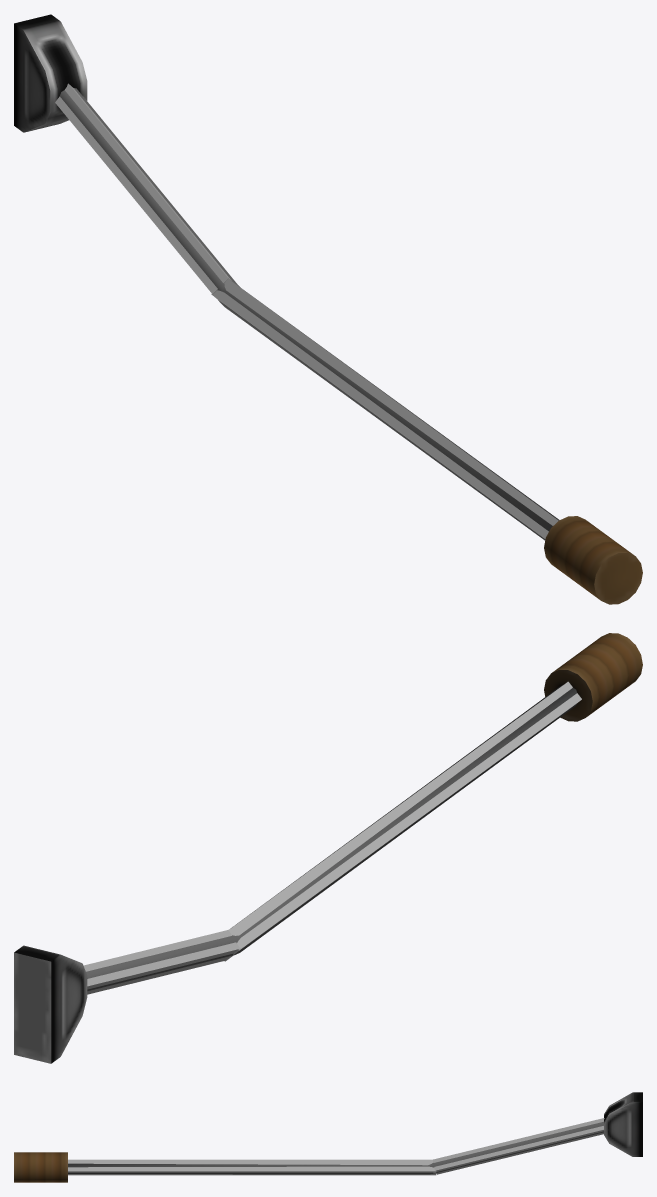
The model's file is Pioneer6_Boom_Magfbx.fbx.
The picture shows the model from 3 angles, top to bottom: view 1: azimuth 30°, elevation 25°; view 2: azimuth 150°, elevation 25°; view 3: azimuth 270°, elevation 25°; orthographic projection. The views are drawn at different scales.
Parts seen in each view (by area): view 1: pCylinder28, pCube1, pCylinder7, pCylinder14, pCylinder27; view 2: pCylinder28, pCube1, pCylinder7, pCylinder14, pCylinder27; view 3: pCylinder28, pCylinder7, pCylinder27, pCube1, pCylinder14.
Part boxes in pixels (bbox=[...]): pCylinder28: bbox=[211, 279, 558, 538]; pCube1: bbox=[14, 14, 87, 132]; pCylinder7: bbox=[60, 88, 559, 540]; pCylinder14: bbox=[544, 516, 642, 604]; pCylinder27: bbox=[55, 83, 236, 294]; pCylinder28: bbox=[224, 681, 581, 961]; pCube1: bbox=[14, 945, 87, 1063]; pCylinder7: bbox=[86, 685, 576, 991]; pCylinder14: bbox=[544, 633, 642, 721]; pCylinder27: bbox=[83, 930, 239, 994]; pCylinder28: bbox=[68, 1159, 436, 1175]; pCylinder7: bbox=[68, 1121, 603, 1174]; pCylinder27: bbox=[433, 1118, 604, 1174]; pCube1: bbox=[604, 1092, 642, 1156]; pCylinder14: bbox=[14, 1152, 67, 1182].
Size of the model in its own units: 0.0515 by 0.1576 by 1.07.
Materials: 2 (1 with a texture image).
